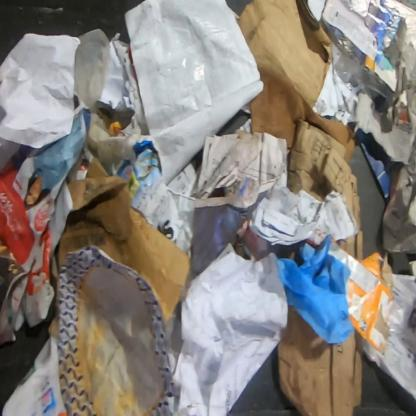cardboard: (58, 155, 190, 325), (236, 2, 356, 184), (286, 119, 364, 259), (277, 304, 365, 415), (327, 243, 394, 359)
